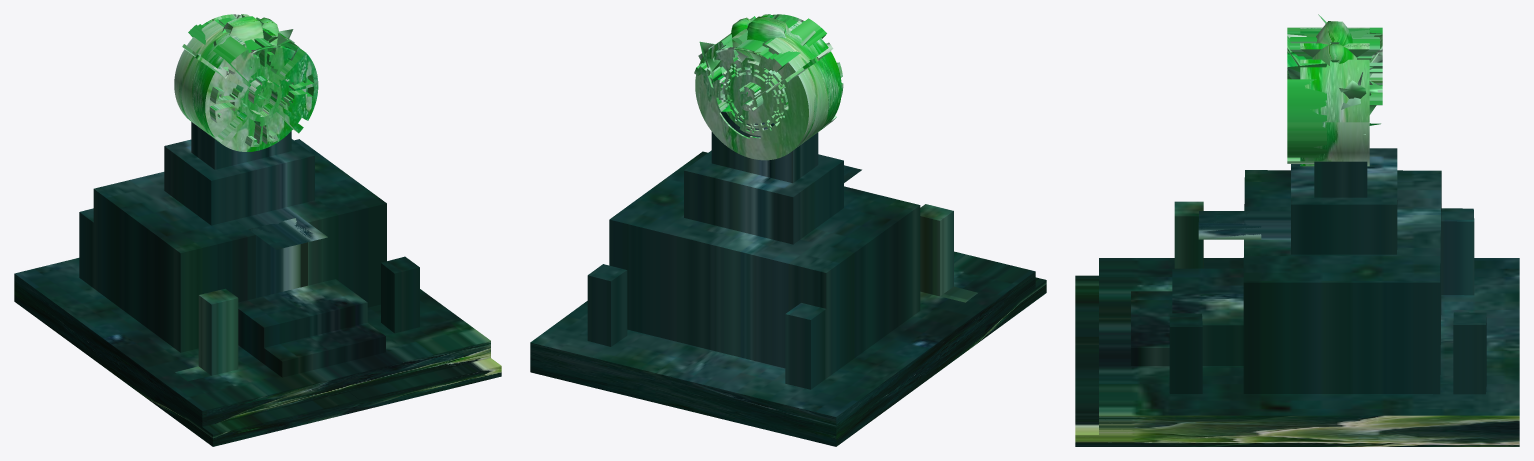
File: PIRAMIDE 2.00.fbx
3 renders of one model, left to right at view 1: azimuth 30°, elevation 25°; view 2: azimuth 150°, elevation 25°; view 3: azimuth 270°, elevation 25°, orthographic. The views are drawn at different scales.
Parts seen in each view (by area): view 1: pCube14, pCylinder1; view 2: pCube14, pCylinder1; view 3: pCube14, pCylinder1.
Part boxes in pixels (x1,y1,x2,y2): pCube14: (14,122,501,446); pCylinder1: (174,14,318,151); pCube14: (530,111,1046,446); pCylinder1: (694,14,843,160); pCube14: (1075,148,1519,446); pCylinder1: (1287,14,1382,166).
Bounding box in the file's own units: 10.75 × 10.87 × 12.81.
Materials: 2 (2 with a texture image).
